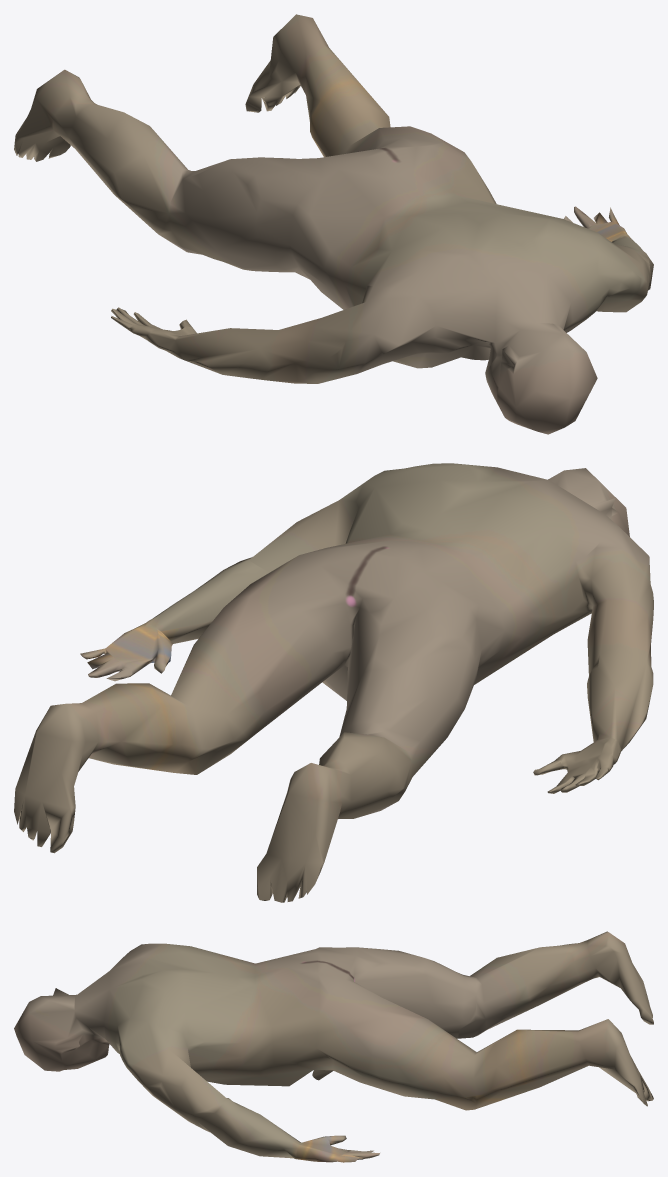
Rendered from Corpse.fbx.
The picture shows the model from 3 angles, top to bottom: view 1: azimuth 30°, elevation 25°; view 2: azimuth 150°, elevation 25°; view 3: azimuth 270°, elevation 25°; orthographic projection. The views are drawn at different scales.
Parts seen in each view (by area): view 1: Corpse; view 2: Corpse; view 3: Corpse.
Part boxes in pixels (x1,y1,x2,y2): Corpse: [14, 14, 653, 434]; Corpse: [14, 463, 653, 902]; Corpse: [14, 931, 653, 1162].
Size of the model in its own units: 1.37 by 0.4131 by 2.02.
